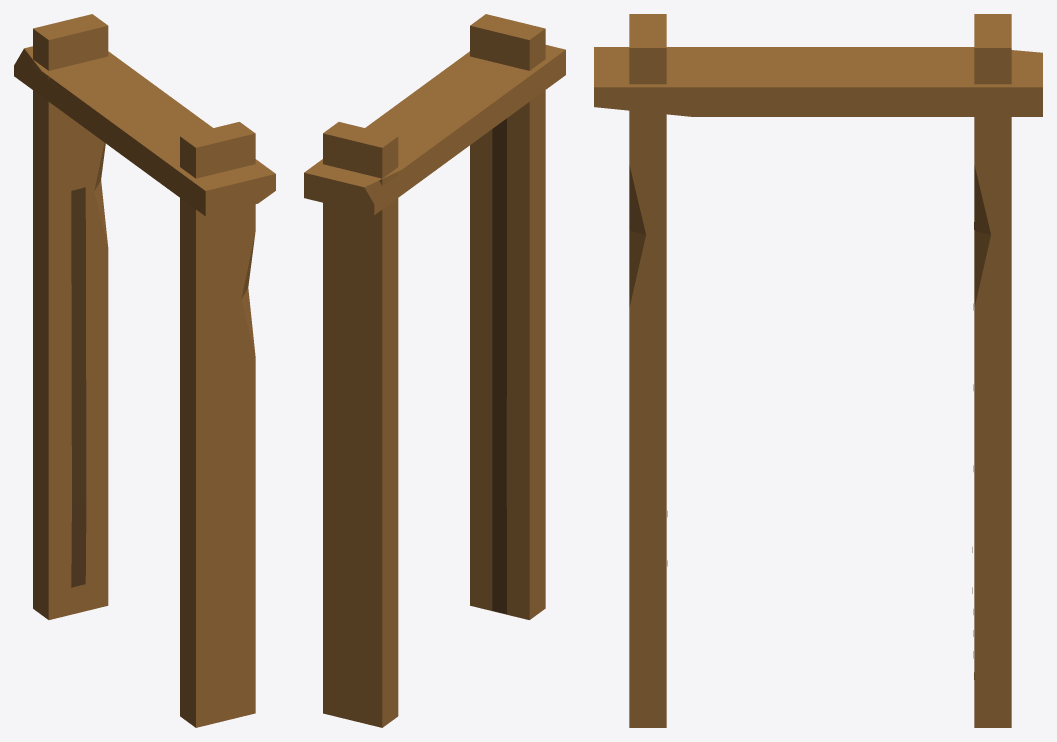
File: door_frame.fbx
3 views of the same model, side by side, from view 1: azimuth 30°, elevation 25°; view 2: azimuth 150°, elevation 25°; view 3: azimuth 270°, elevation 25° (orthographic). The views are drawn at different scales.
Parts seen in each view (by area): view 1: door.001; view 2: door.001; view 3: door.001.
Part boxes in pixels (<box>): door.001: <box>14,14,275,727</box>; door.001: <box>304,14,565,727</box>; door.001: <box>594,14,1042,727</box>.
Bounding box in the file's own units: 30.53 × 240 × 144.
